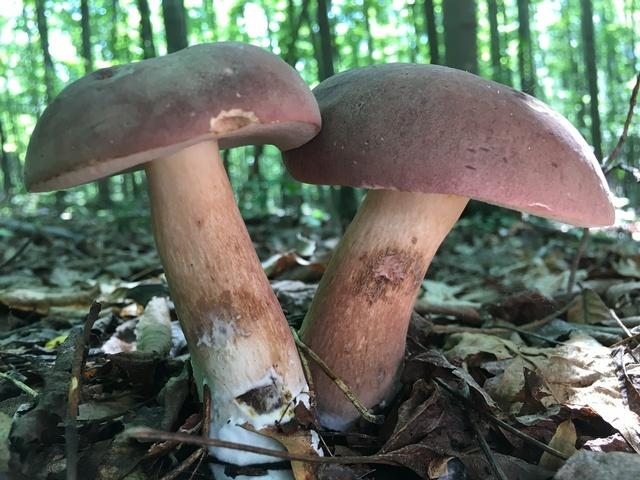Non-edible Mushroom: (21, 39, 325, 478), (280, 60, 616, 433)
